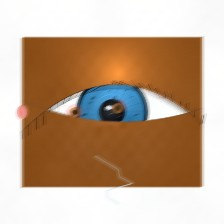foreign_body_visible: (61, 101, 88, 123)
